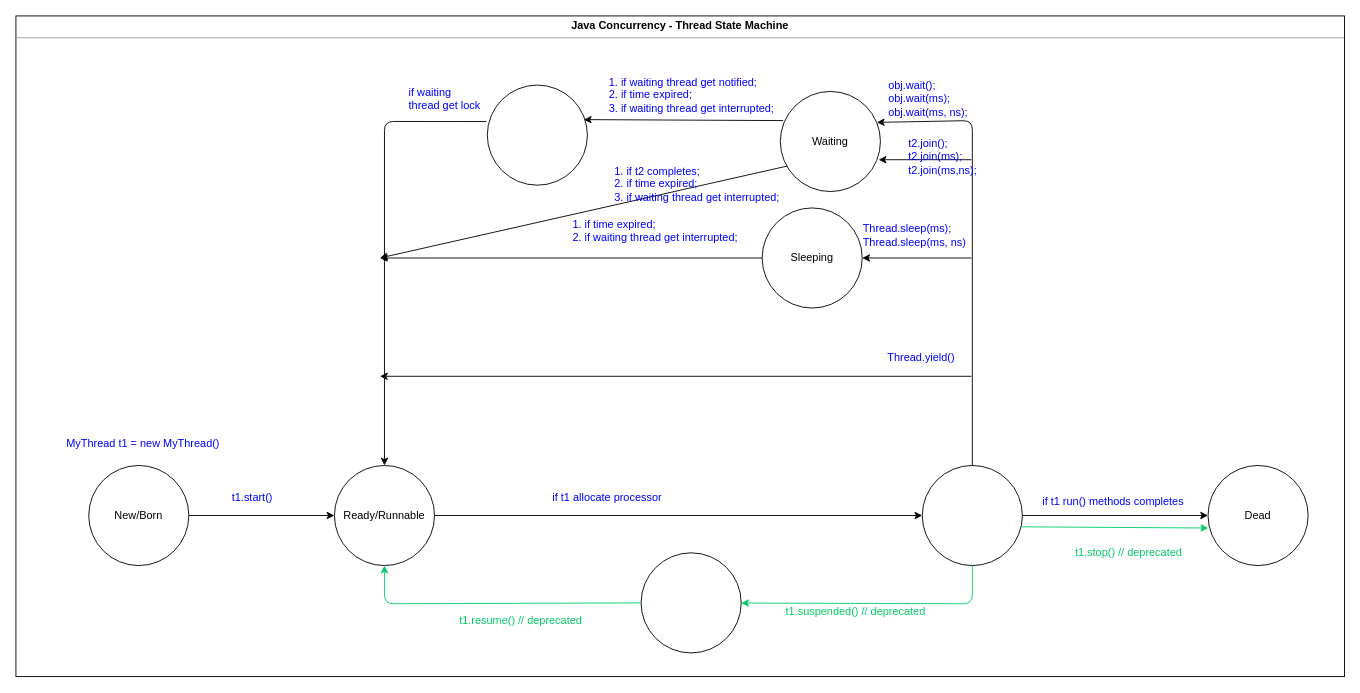
Some shapes in this 1360 by 693 pixel diagram are drawn without their labels. Each missing label, with the centre of its shape:
Running: point (971, 515)
Suspended: point (690, 602)
Waiting_transient to_get_lock: point (536, 134)
